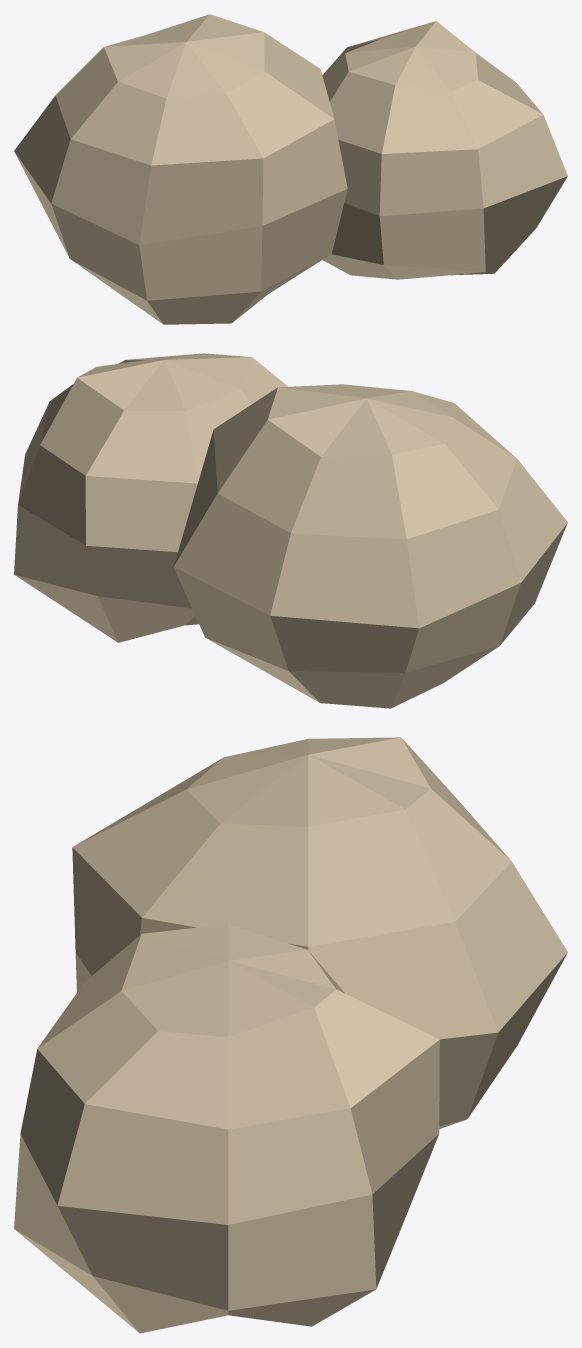
Rendered from sacks.glb.
The picture shows the model from 3 angles, top to bottom: view 1: azimuth 30°, elevation 25°; view 2: azimuth 150°, elevation 25°; view 3: azimuth 270°, elevation 25°; orthographic projection. The views are drawn at different scales.
Visible parts, largest first — view 1: sacks; view 2: sacks; view 3: sacks.
Boxes of the visible parts, x1=… form: sacks: x1=14, y1=14, x2=567, y2=324; sacks: x1=14, y1=353, x2=567, y2=708; sacks: x1=14, y1=737, x2=567, y2=1333.
Size of the model in its own units: 1.02 by 0.536 by 0.6915.
